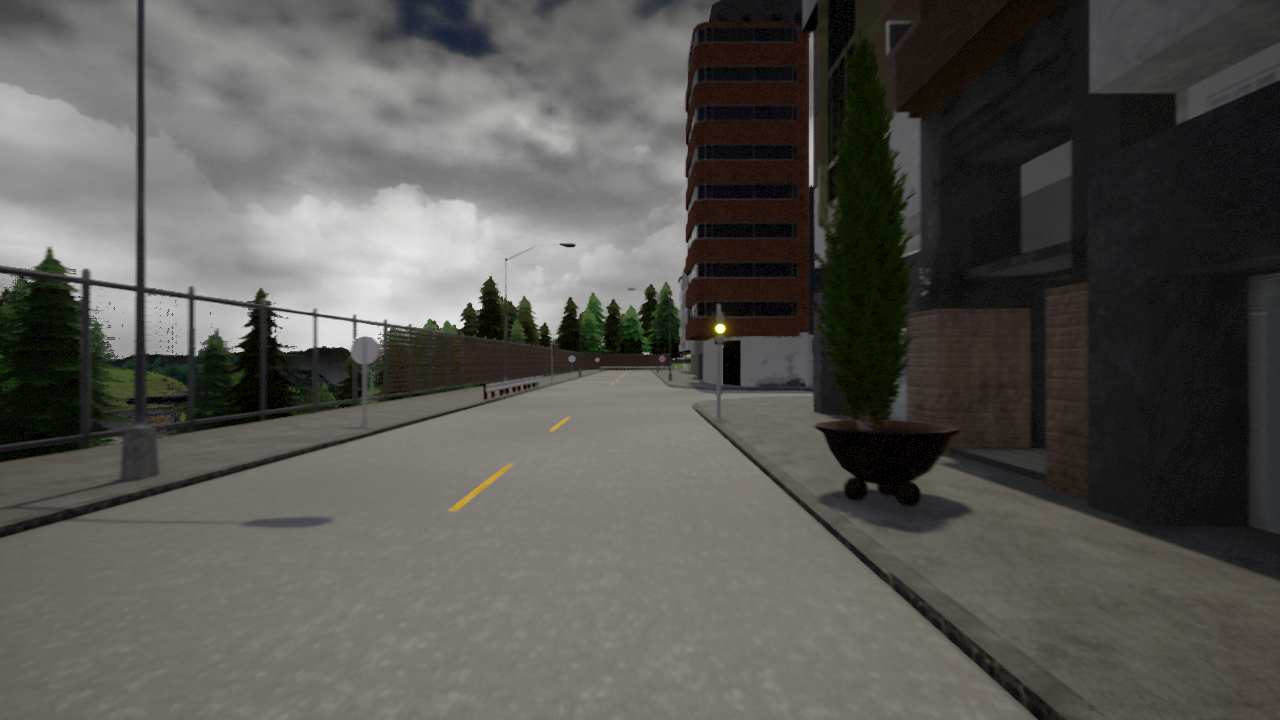yellow: (712, 310, 727, 345)
